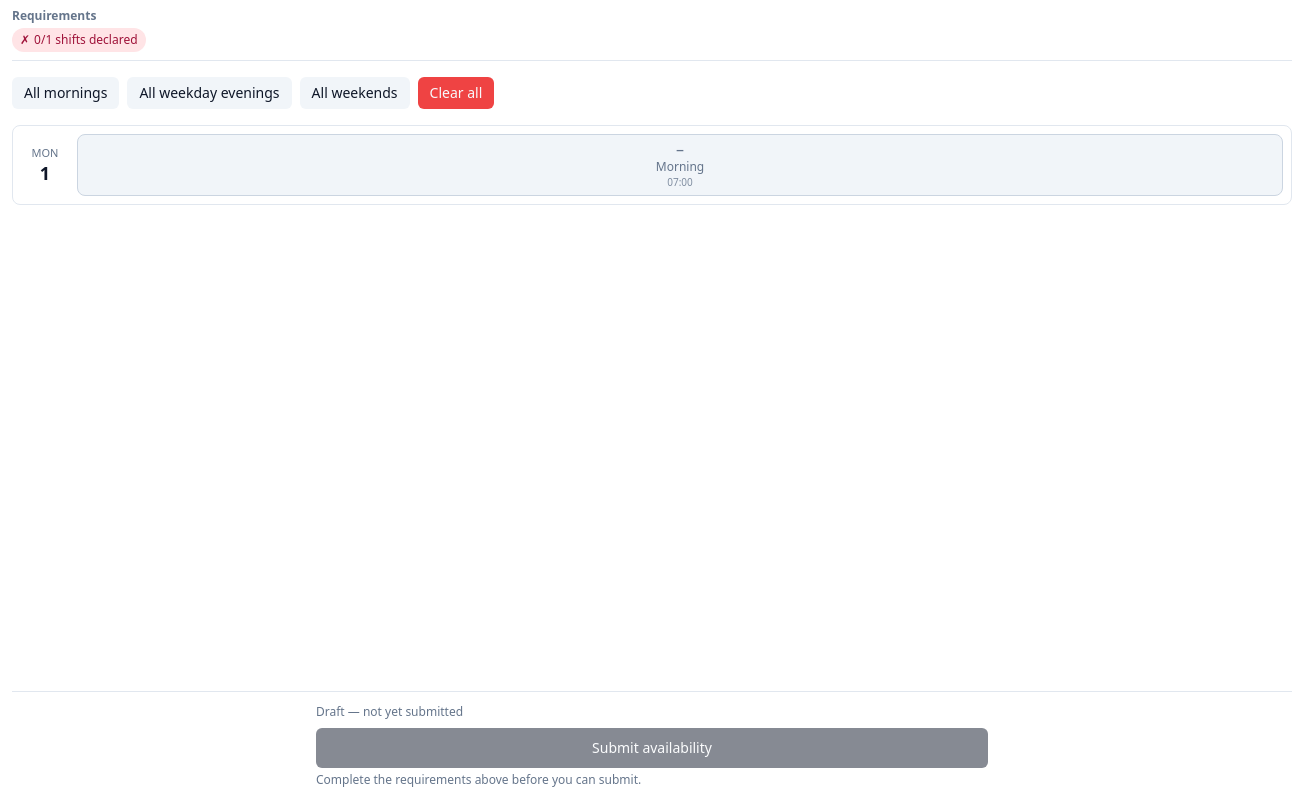
Test case: AvailabilityCalendar › cycles a chip unavailable -> available -> preferred -> unavailable on tap
The image size is (1292, 800).
Click the button with aria-label "morning — unavailable": x=680, y=165 [77,134,1283,196]
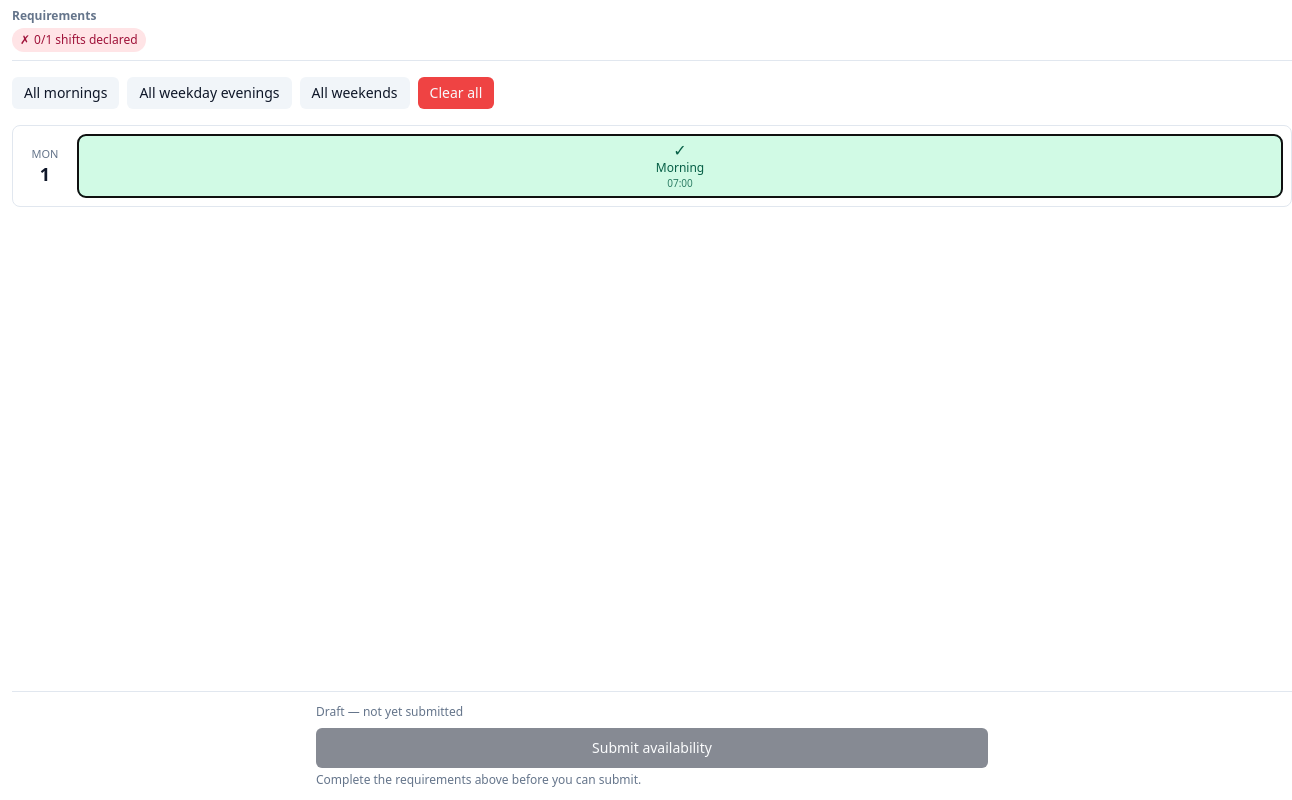
Expected: the button with aria-label "morning — available" is shown
Click the button with aria-label "morning — available": x=680, y=166 [77,134,1283,198]
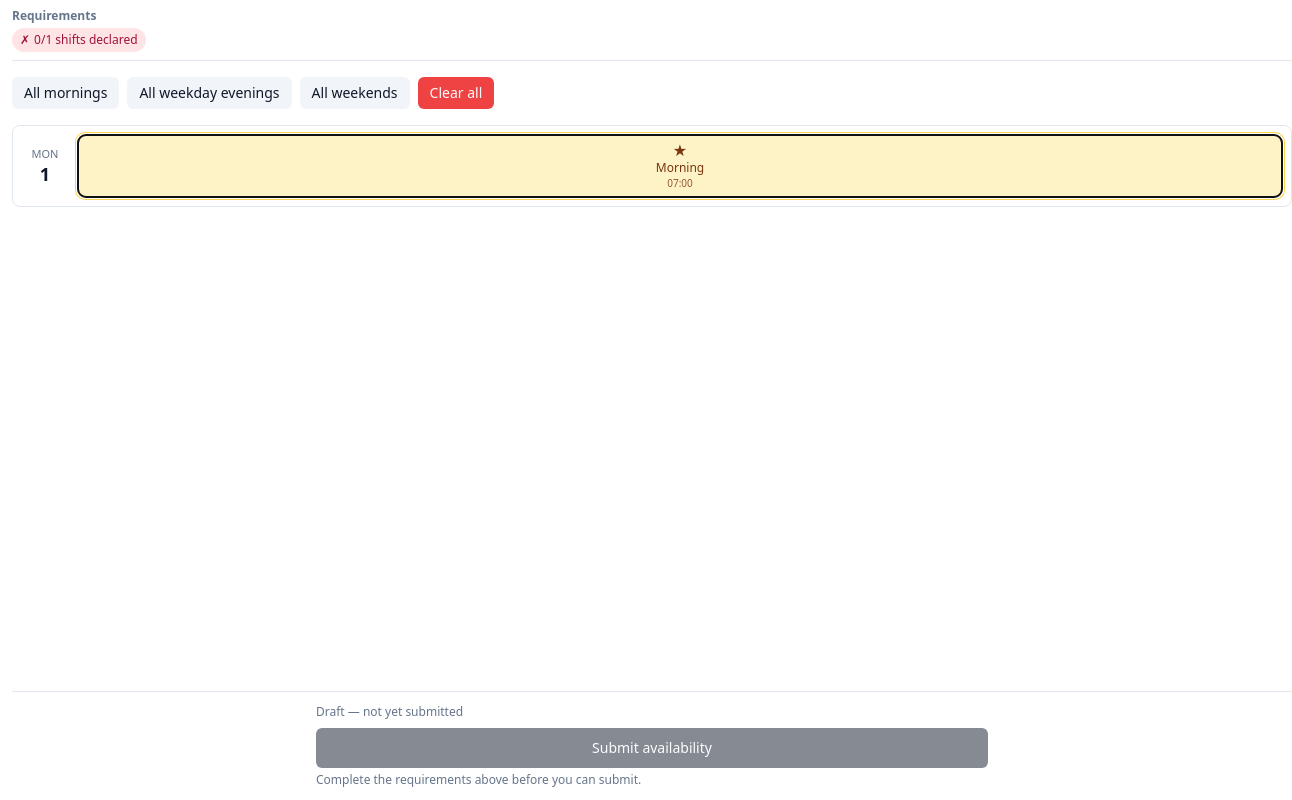
Expected: the button with aria-label "morning — preferred" is shown
Click the button with aria-label "morning — preferred": x=680, y=166 [77,134,1283,198]
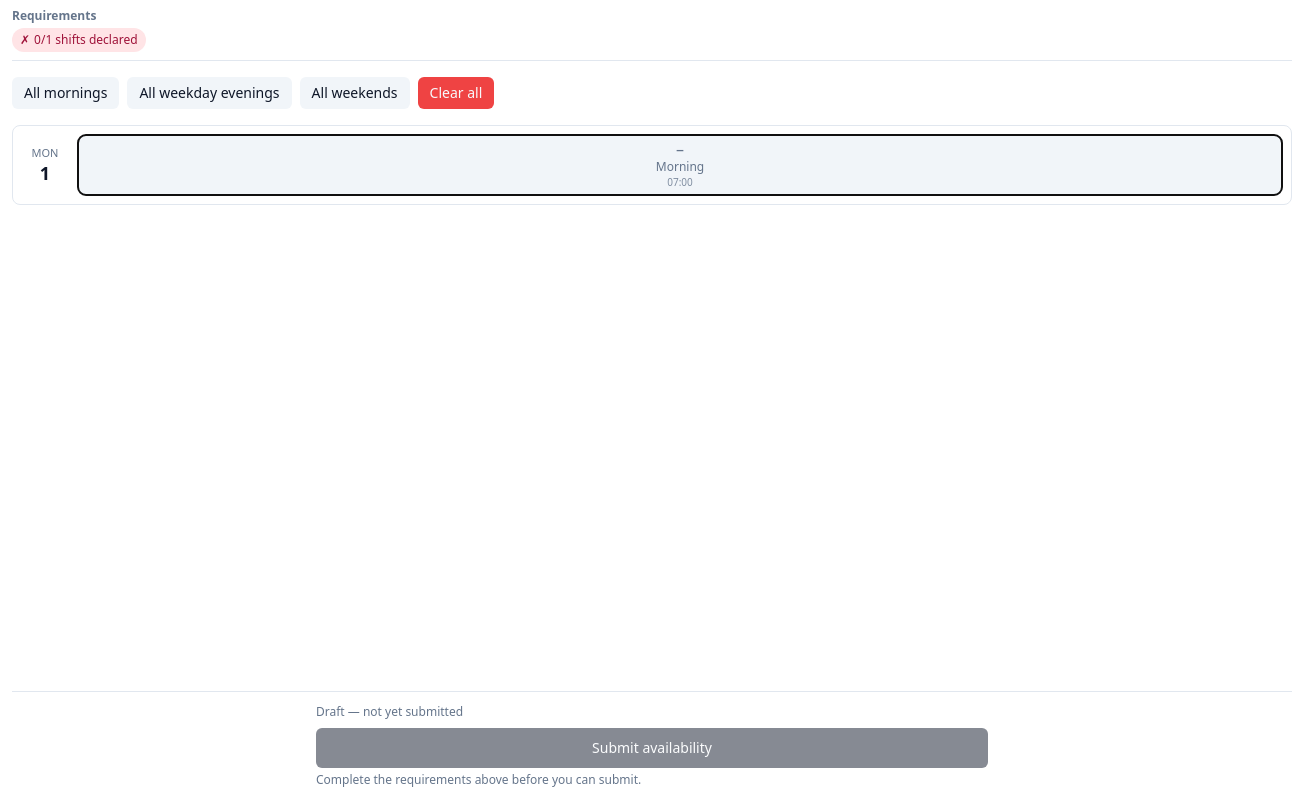
Expected: the button with aria-label "morning — unavailable" is shown, [77,134,1283,196]
